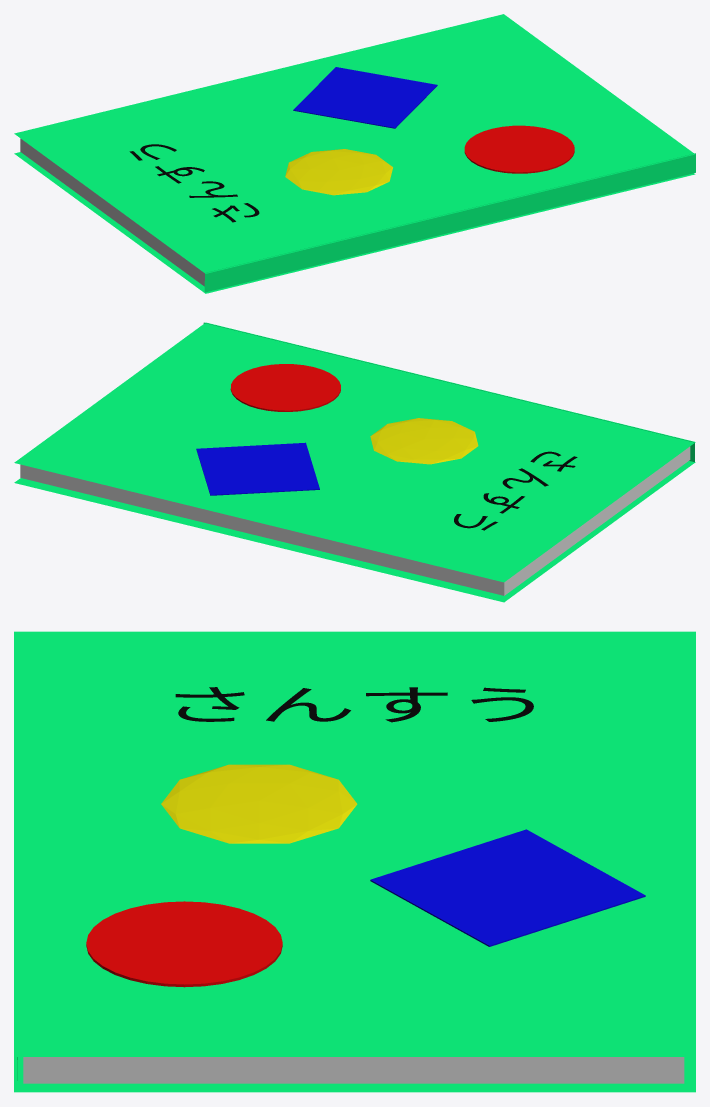
File: sansuu.fbx
The picture shows the model from 3 angles, top to bottom: view 1: azimuth 30°, elevation 25°; view 2: azimuth 150°, elevation 25°; view 3: azimuth 270°, elevation 25°; orthographic projection. The views are drawn at different scales.
Visible parts, largest first — view 1: 平面.001, 平面.003, 立方体, 円柱, ICO球, Cube, 平面.002, テキスト; view 2: 平面.001, Cube, 立方体, 平面.002, 円柱, ICO球, テキスト, 平面.003; view 3: 平面.001, Cube, 立方体, 円柱, ICO球, 平面.002, テキスト.
Part boxes in pixels (x1=…): 平面.001: x1=14, y1=14, x2=695, y2=273; 平面.003: x1=204, y1=153, x2=695, y2=292; 立方体: x1=293, y1=67, x2=437, y2=128; 円柱: x1=464, y1=125, x2=574, y2=173; ICO球: x1=285, y1=149, x2=392, y2=195; Cube: x1=20, y1=138, x2=204, y2=286; 平面.002: x1=14, y1=152, x2=695, y2=293; テキスト: x1=129, y1=144, x2=259, y2=222; 平面.001: x1=14, y1=322, x2=695, y2=582; Cube: x1=20, y1=446, x2=690, y2=595; 立方体: x1=196, y1=442, x2=319, y2=495; 平面.002: x1=14, y1=461, x2=695, y2=602; 円柱: x1=230, y1=364, x2=340, y2=411; ICO球: x1=370, y1=418, x2=478, y2=464; テキスト: x1=454, y1=451, x2=577, y2=530; 平面.003: x1=203, y1=322, x2=694, y2=462; 平面.001: x1=14, y1=631, x2=695, y2=1056; Cube: x1=23, y1=1057, x2=684, y2=1083; 立方体: x1=370, y1=829, x2=645, y2=946; 円柱: x1=86, y1=901, x2=282, y2=987; ICO球: x1=161, y1=764, x2=357, y2=843; 平面.002: x1=14, y1=1057, x2=695, y2=1092; テキスト: x1=175, y1=687, x2=533, y2=722.
Size of the model in its own units: 1027 by 47.78 by 694.
